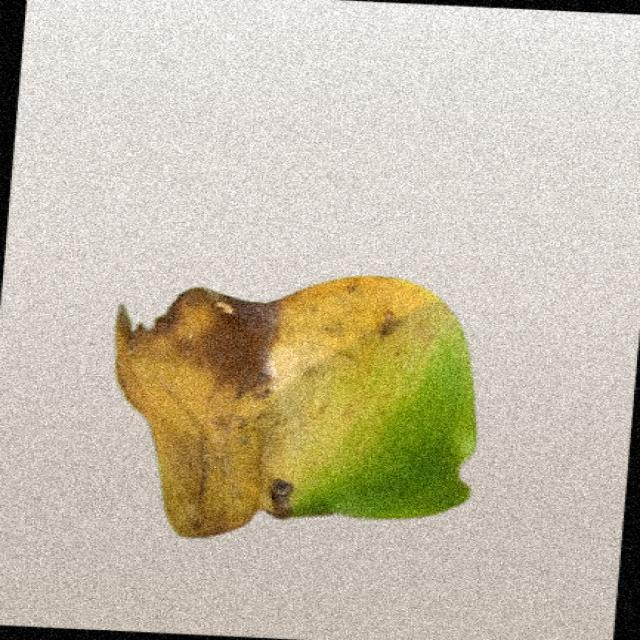daun berpenyakit kuning: (117, 278, 475, 536)
